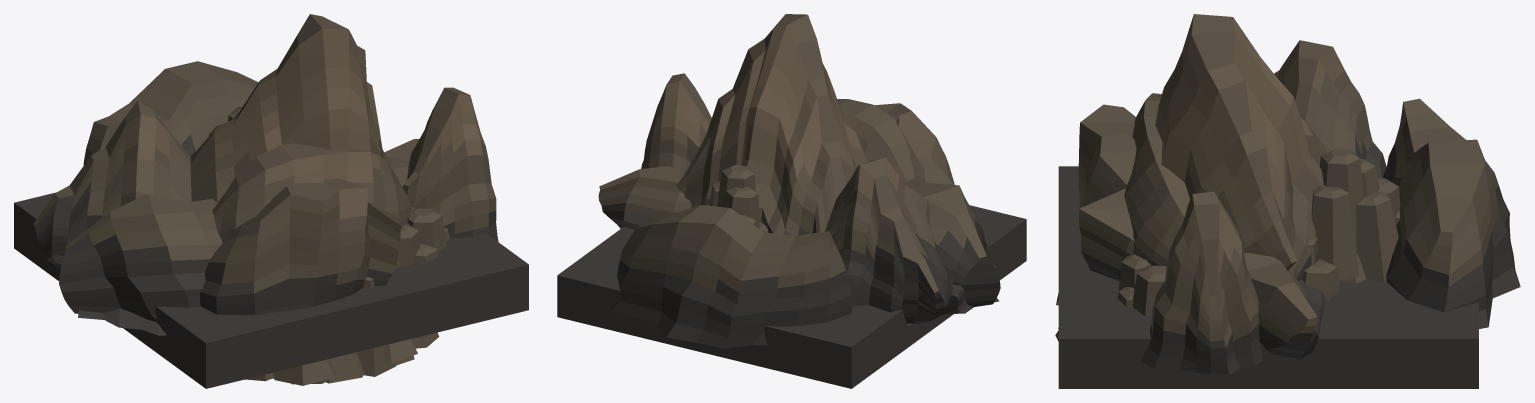
File: etape_0_joint.glb
The picture shows the model from 3 angles, left to right: view 1: azimuth 30°, elevation 25°; view 2: azimuth 150°, elevation 25°; view 3: azimuth 270°, elevation 25°; orthographic projection. The views are drawn at different scales.
Visible parts, largest first — view 1: SM_WaterfallCave_Assise; view 2: SM_WaterfallCave_Assise; view 3: SM_WaterfallCave_Assise.
Boxes of the visible parts, x1,y1,x2,y2 form: SM_WaterfallCave_Assise: (14,14,528,388); SM_WaterfallCave_Assise: (557,14,1026,388); SM_WaterfallCave_Assise: (1055,14,1520,388).
Size of the model in its own units: 17.03 by 11.83 by 15.16.
